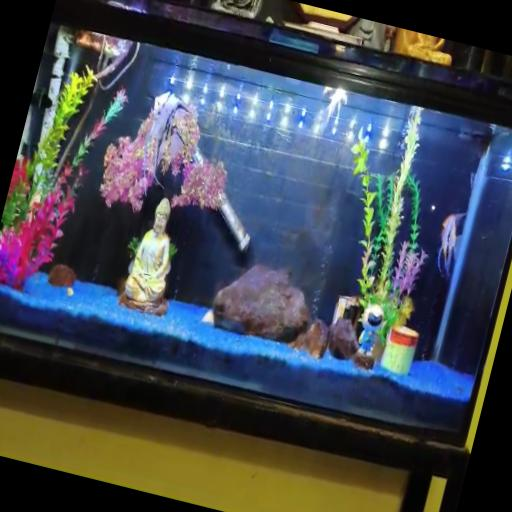Fish: (142, 91, 188, 194), (436, 212, 465, 278)
